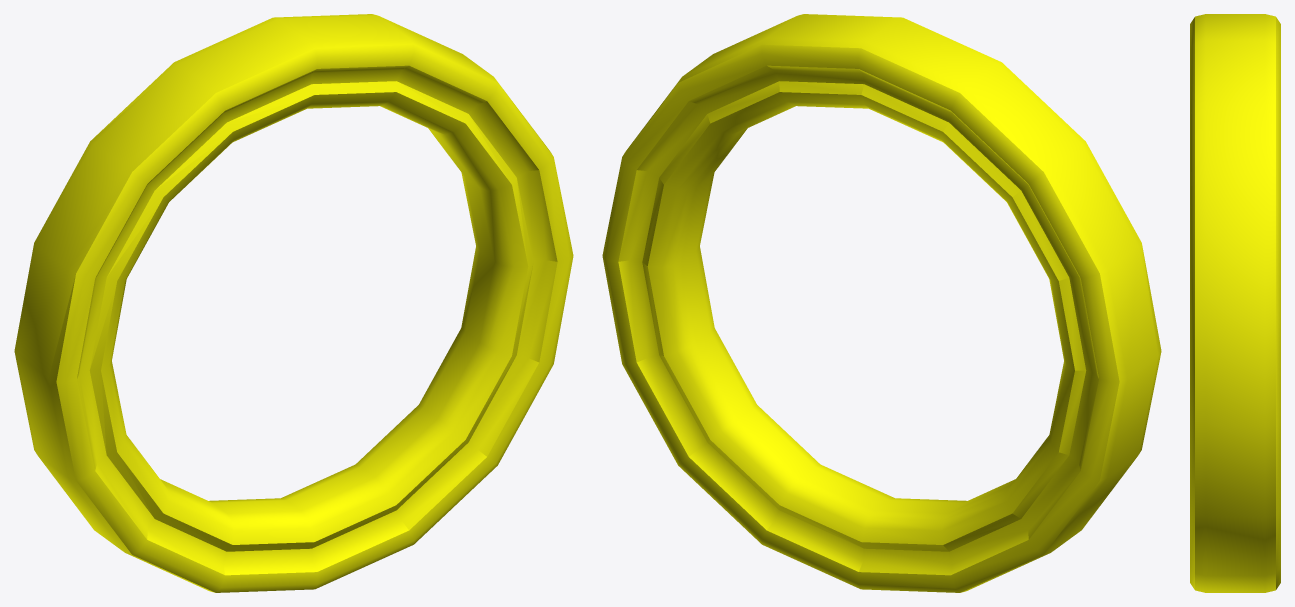
The model's file is ring.glb.
The picture shows the model from 3 angles, left to right: view 1: azimuth 30°, elevation 25°; view 2: azimuth 150°, elevation 25°; view 3: azimuth 270°, elevation 25°; orthographic projection. The views are drawn at different scales.
Visible parts, largest first — view 1: Object_2; view 2: Object_2; view 3: Object_2.
Boxes of the visible parts, x1=… form: Object_2: x1=14, y1=14, x2=573, y2=592; Object_2: x1=602, y1=14, x2=1161, y2=592; Object_2: x1=1190, y1=14, x2=1280, y2=592.
Bounding box in the file's own units: 1 × 1 × 0.157.
1 material, 1 textured.
